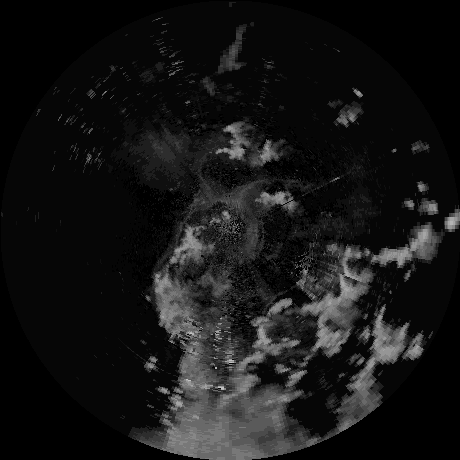frontgust: (157, 200, 205, 264), (243, 176, 309, 191)
